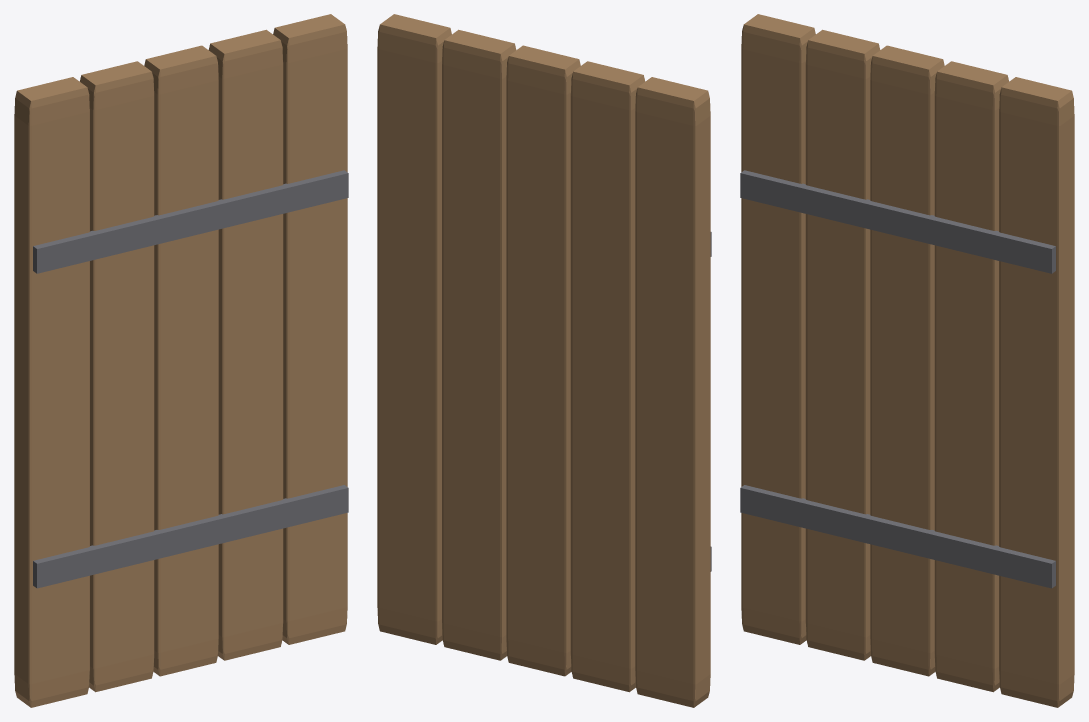
File: Burg_Tor.gltf
3 renders of one model, left to right at view 1: azimuth 30°, elevation 25°; view 2: azimuth 150°, elevation 25°; view 3: azimuth 330°, elevation 25°, orthographic.
Visible parts, largest first — view 1: Burg_Tor; view 2: Burg_Tor; view 3: Burg_Tor.
Boxes of the visible parts, left/top/right/bottom form: Burg_Tor: left=14, top=14, right=348, bottom=707; Burg_Tor: left=377, top=14, right=711, bottom=707; Burg_Tor: left=740, top=14, right=1074, bottom=707.
Size of the model in its own units: 2.97 by 5.4 by 0.315.
